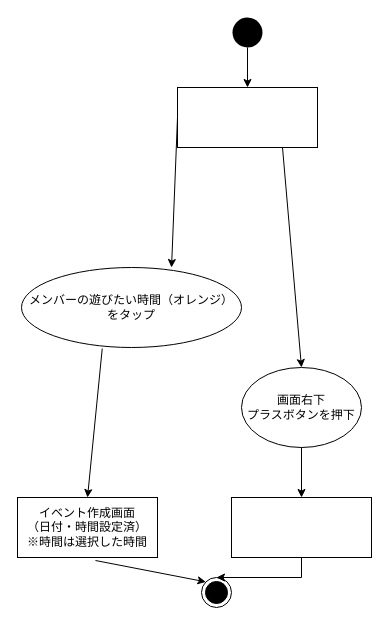
Some shapes in this 389 by 625 pixel diagram are drawn without their labels. The centre of each missing label's shape, as x and y in pixels:
"イベント作成画面 （日付設定済）" belongs at point (301, 527).
"グループメンバー 予定詳細画面" belongs at point (247, 117).
